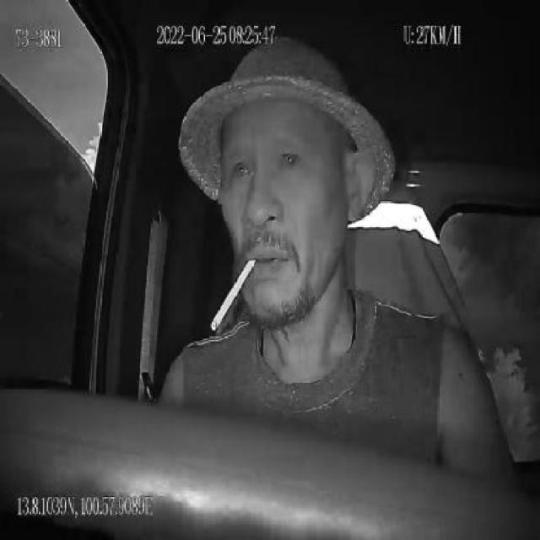smoking: (210, 256, 256, 333)
